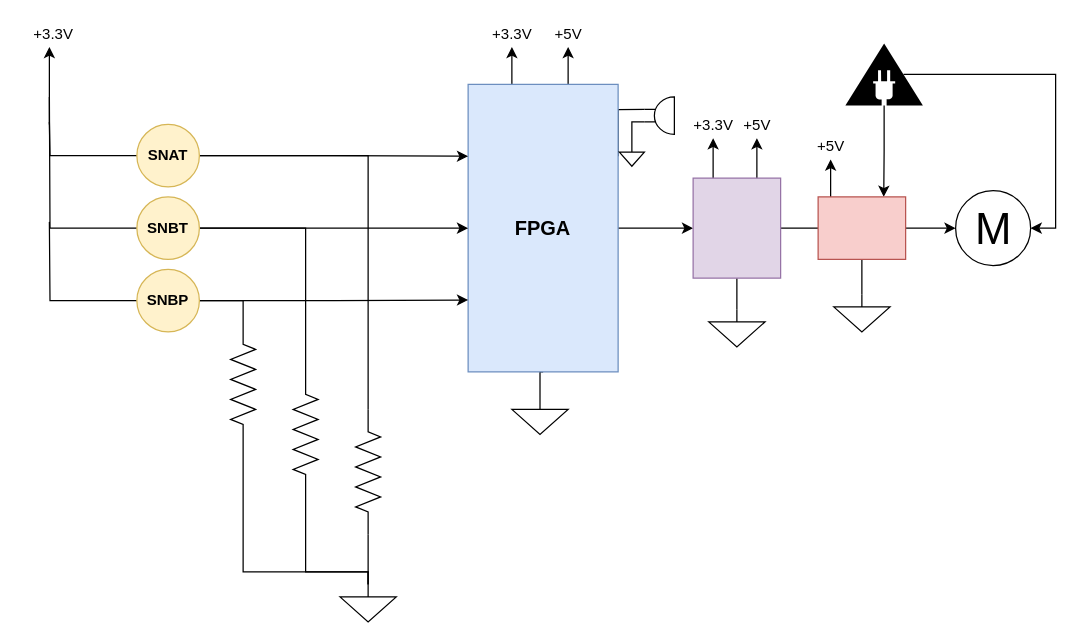
This 1088x644 diagram has some shape labels left out. The centre of each missing label's shape, as x and y in pixels:
"Conversor de Nível Lógico" goes at point 736,227.
"Relé" goes at point 861,227.
